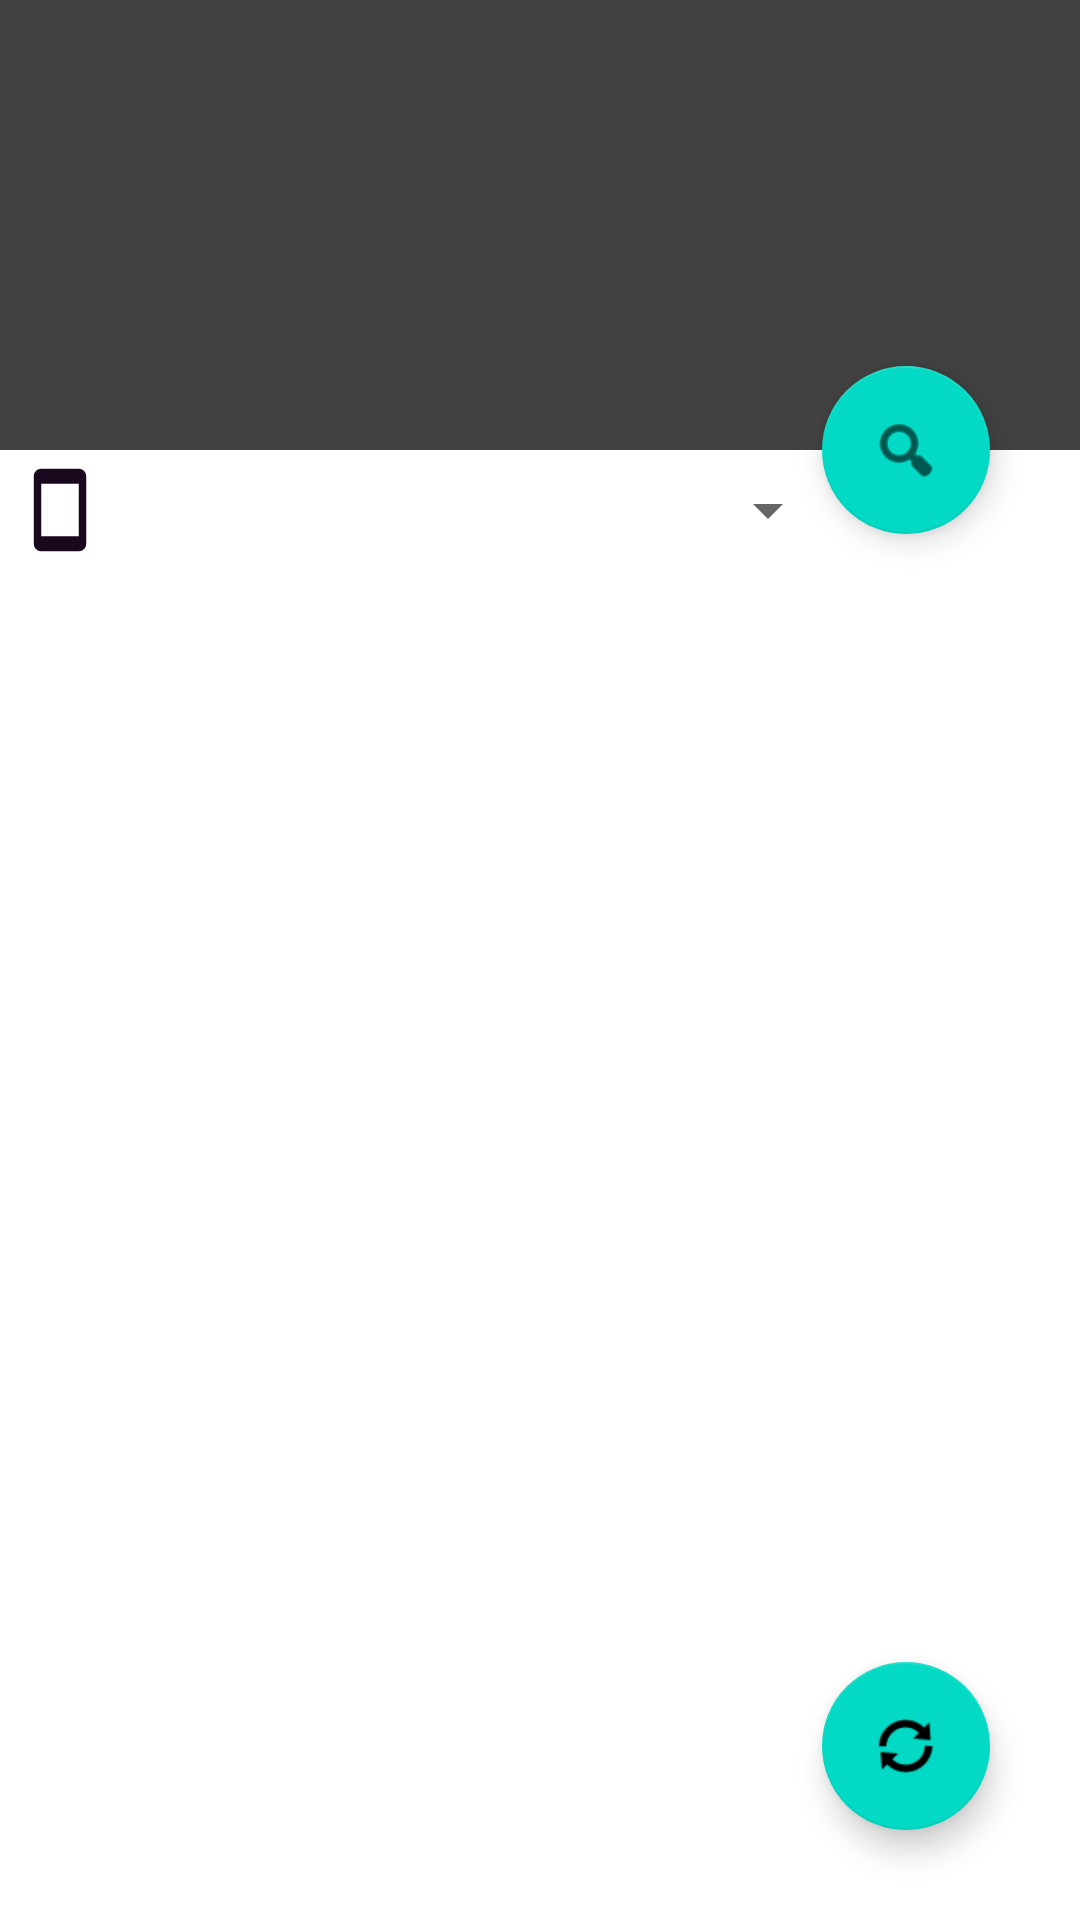

Point at icon controls on the screen. Image size 1080x1920, points as [x,y].
search: [906,450]
